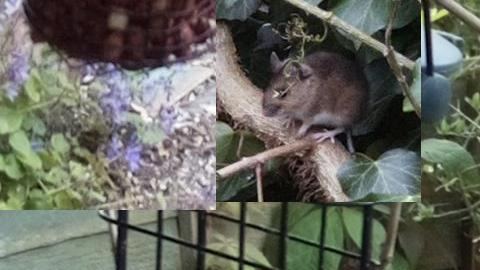mouse: (261, 50, 371, 154)
